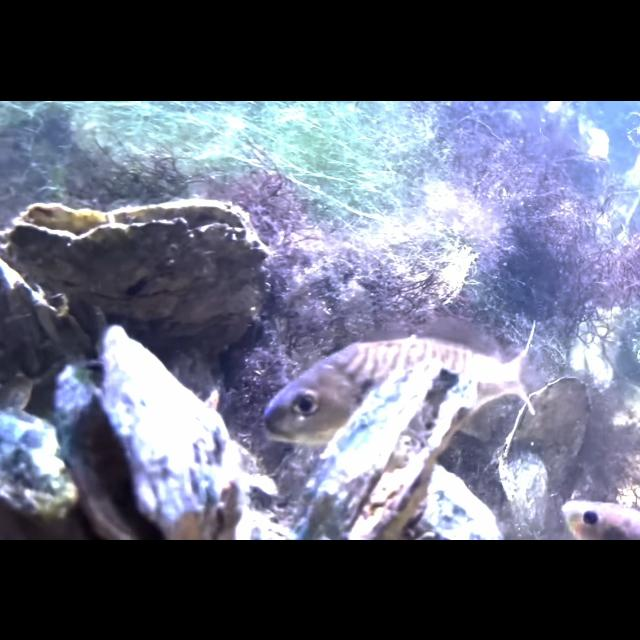Oyster-Closed: (502, 377, 594, 511), (0, 407, 80, 527)
Oyster-Open: (56, 325, 245, 539), (8, 195, 272, 348), (306, 360, 479, 538)
